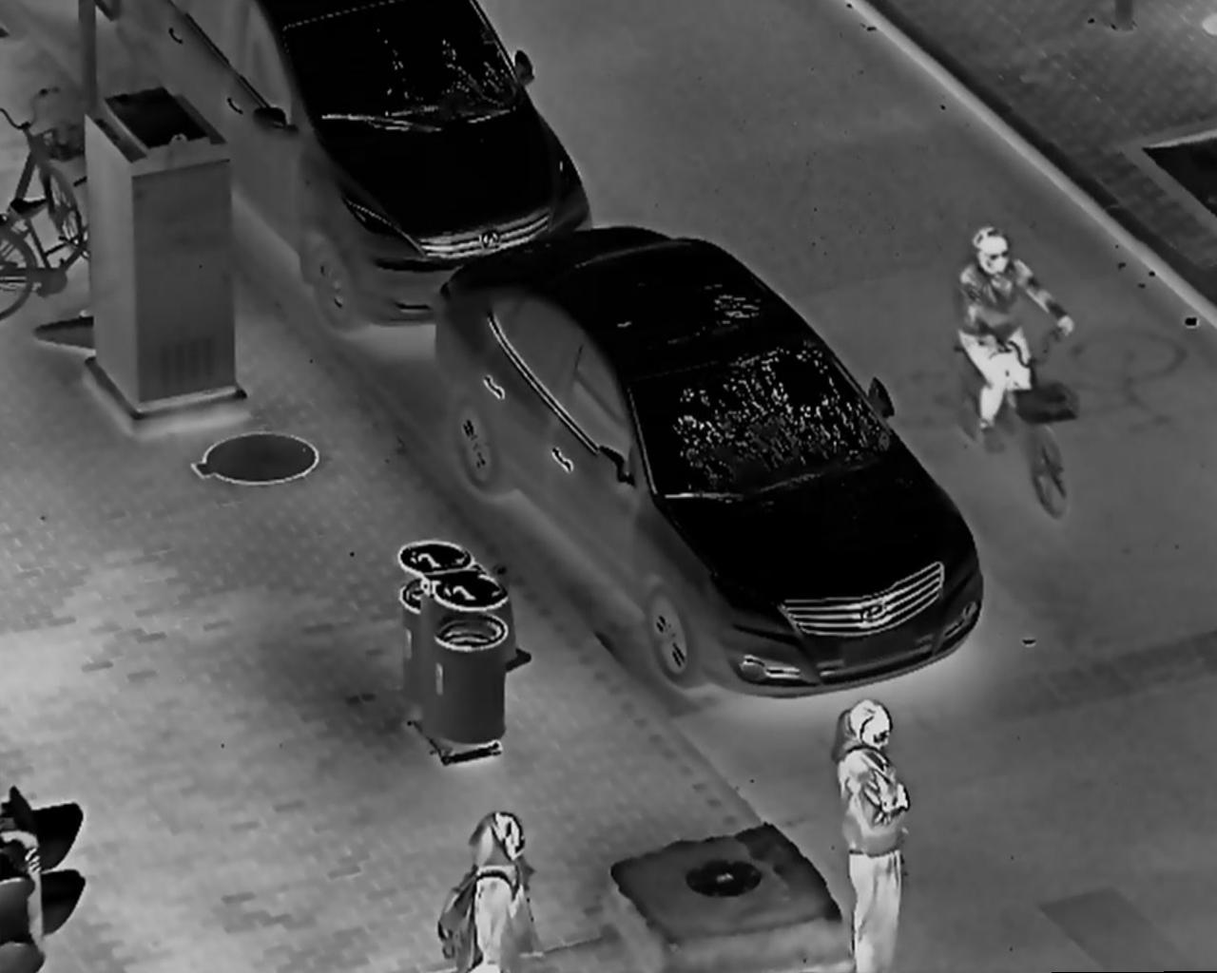person: (952, 222, 1080, 456), (823, 696, 921, 973), (436, 806, 543, 973)
